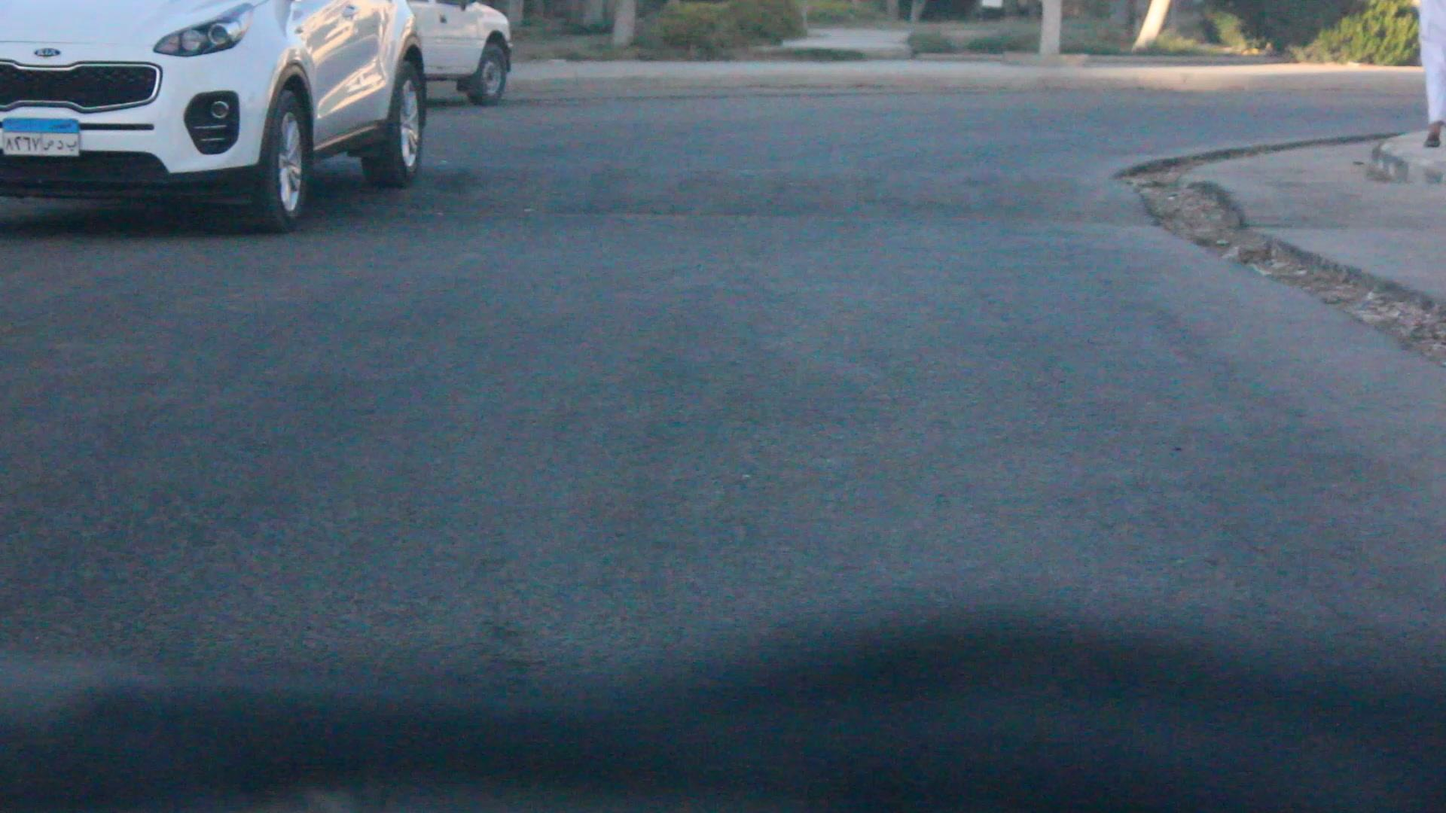Bump: (439, 145, 1150, 235)
